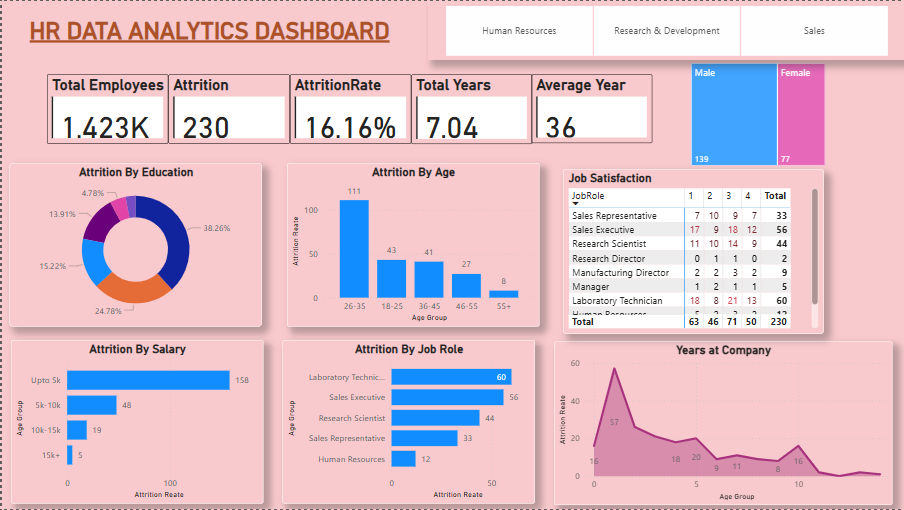

This screenshot's page, from the dashboard's own definition file:
{"tool":"powerbi","page":{"name":"Page 1","canvas":[1280,720],"ordinal":0},"visuals":[{"type":"cardVisual","title":"Total Employees","fields":{"Data":["CountNonNull(HR_Analytics.EmpID)"]},"box":[64,104,172,98],"z":0},{"type":"cardVisual","title":"Attrition","fields":{"Data":["Sum(HR_Analytics.AttritionRate)"]},"box":[236,104,172,98],"z":1000},{"type":"cardVisual","title":"AttritionRate","fields":{"Data":["HR_Analytics.Attrition_Rate"]},"box":[408,104,172,98],"z":2000},{"type":"cardVisual","title":"Total Years","fields":{"Data":["Avg(HR_Analytics.YearsAtCompany)"]},"box":[580,103.8,171.2,98.8],"z":3000},{"type":"cardVisual","title":"Average Year","fields":{"Data":["Median(HR_Analytics.Age)"]},"box":[751.2,103.8,171.2,97.5],"z":4000},{"type":"donutChart","title":"Attrition By Education","fields":{"Category":["HR_Analytics.EducationField"],"Y":["Sum(HR_Analytics.AttritionRate)"]},"box":[10,230,358,232],"z":5000},{"type":"clusteredColumnChart","title":"Attrition By Age","fields":{"Category":["HR_Analytics.AgeGroup"],"Y":["Sum(HR_Analytics.AttritionRate)"]},"box":[404,230,358,232],"z":6000},{"type":"pivotTable","title":"Job Satisfaction","fields":{"Rows":["HR_Analytics.JobRole"],"Columns":["HR_Analytics.JobSatisfaction"],"Values":["Sum(HR_Analytics.AttritionRate)"]},"box":[796,238,370,234],"z":7000},{"type":"barChart","title":"Attrition By Salary","fields":{"Category":["HR_Analytics.SalarySlab"],"Y":["Sum(HR_Analytics.AttritionRate)"]},"box":[12,480,358,232],"z":8000},{"type":"barChart","title":"Attrition By Job Role","fields":{"Category":["HR_Analytics.JobRole"],"Y":["Sum(HR_Analytics.AttritionRate)"]},"box":[398,480,358,232],"z":9000},{"type":"stackedAreaChart","title":"Years at Company","fields":{"Category":["HR_Analytics.YearsAtCompany"],"Y":["Sum(HR_Analytics.AttritionRate)"]},"box":[784,482,480,232],"z":10000},{"type":"treemap","title":"Gender","fields":{"Group":["HR_Analytics.Gender"],"Values":["Sum(HR_Analytics.AttritionRate)"]},"box":[972.5,83.8,200,155],"z":11000},{"type":"slicer","fields":{"Values":["HR_Analytics.Department"]},"box":[604,0,676,84],"z":12000},{"type":"textbox","box":[34,16,546,68],"z":13000}]}

Visuals, with their boxes in screenshot pixels (x1, y1, x2, y2), scaled from the page's 1280x720 canvas onto the 904x510 screenshot:
"Total Employees" cardVisual: <region>45, 74, 167, 143</region>
"Attrition" cardVisual: <region>167, 74, 288, 143</region>
"AttritionRate" cardVisual: <region>288, 74, 410, 143</region>
"Total Years" cardVisual: <region>410, 74, 531, 144</region>
"Average Year" cardVisual: <region>531, 74, 651, 143</region>
"Attrition By Education" donutChart: <region>7, 163, 260, 327</region>
"Attrition By Age" clusteredColumnChart: <region>285, 163, 538, 327</region>
"Job Satisfaction" pivotTable: <region>562, 169, 823, 334</region>
"Attrition By Salary" barChart: <region>8, 340, 261, 504</region>
"Attrition By Job Role" barChart: <region>281, 340, 534, 504</region>
"Years at Company" stackedAreaChart: <region>554, 341, 893, 506</region>
"Gender" treemap: <region>687, 59, 828, 169</region>
slicer - HR_Analytics.Department: <region>427, 0, 903, 60</region>
textbox: <region>24, 11, 410, 60</region>
